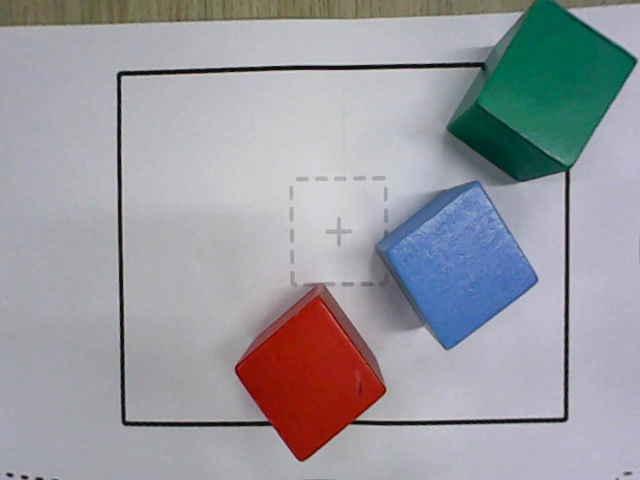upside of big cube: (476, 0, 638, 169), (233, 297, 387, 464), (386, 183, 539, 351)
